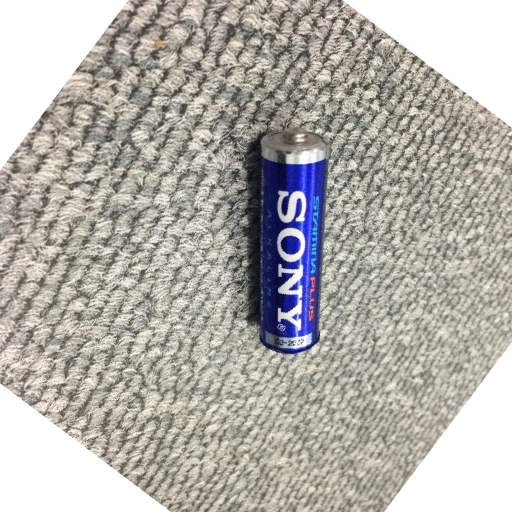Battery_0: (252, 123, 341, 362)
